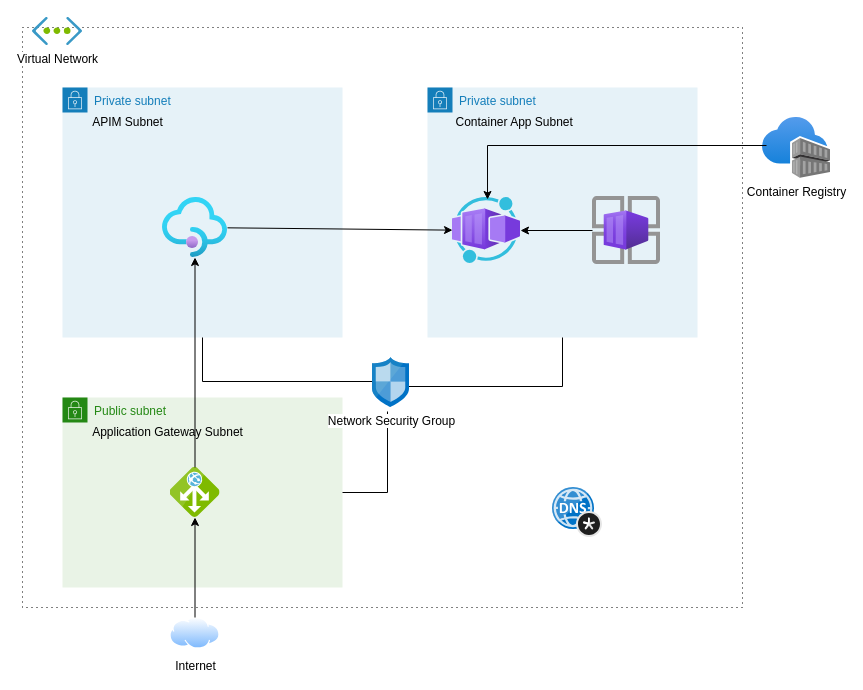
Image size: 863x690. Some labels were removed from this diagram. Each missing label, with the centre of its shape:
"API Management Service" goes at (194,227).
"Container app" goes at (486,230).
"Container App Environment" goes at (626,230).
"Private DNS Zone" goes at (577,512).
